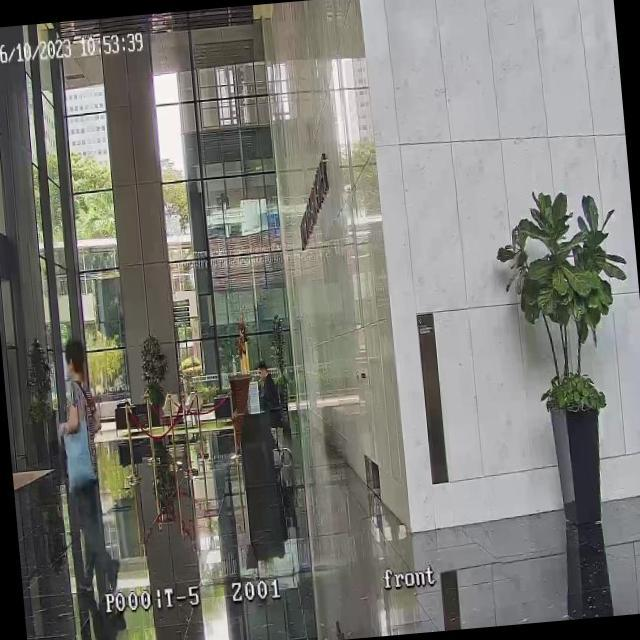person: (50, 336, 118, 606), (256, 358, 282, 419)
